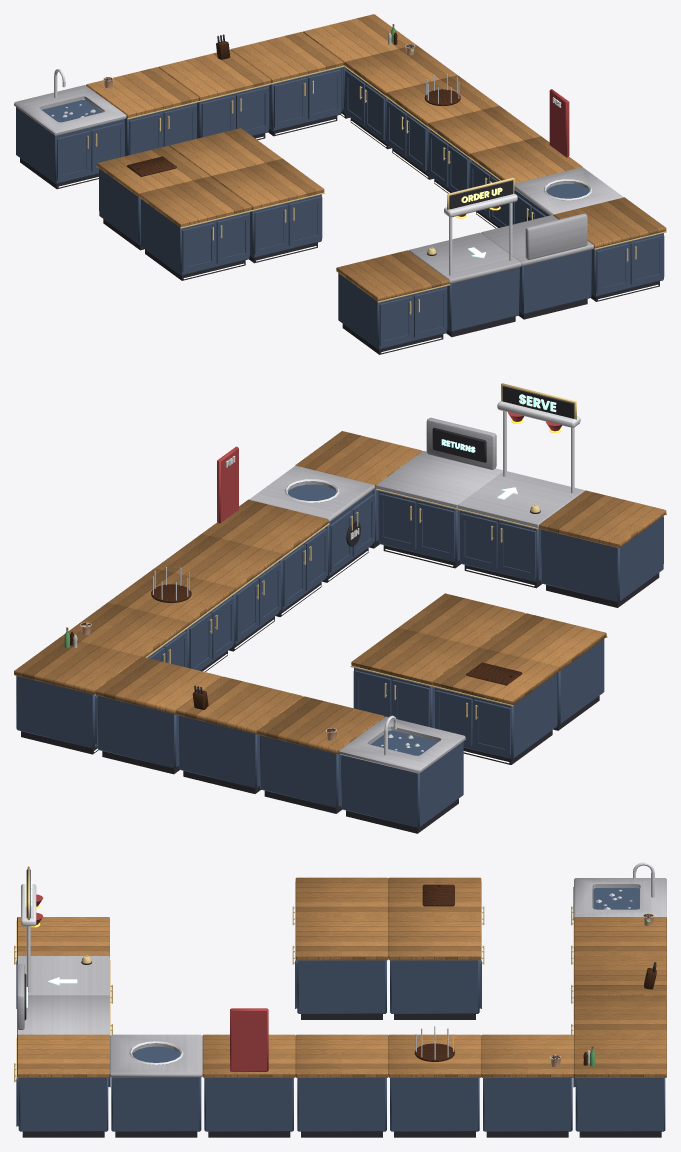
The model's file is kr_layD3_st2.glb.
3 views of the same model, one above another, from view 1: azimuth 30°, elevation 25°; view 2: azimuth 150°, elevation 25°; view 3: azimuth 270°, elevation 25° (orthographic). The views are drawn at different scales.
Visible parts, largest first — view 1: vc_m0_r4, kr_layD3_st2_butcher, kr_layD3_st2_steel, vc_m8_r2, kr_layD3_st2_darkwood, kr_layD3_st2_warmglow; view 2: vc_m0_r4, kr_layD3_st2_butcher, kr_layD3_st2_steel, vc_m8_r2, kr_layD3_st2_darkwood, kr_layD3_st2_warmglow; view 3: vc_m0_r4, kr_layD3_st2_butcher, kr_layD3_st2_steel, vc_m8_r2, kr_layD3_st2_darkwood.
Part boxes in pixels (x1,y1,x2,y2): vc_m0_r4: [16, 26, 664, 354]; kr_layD3_st2_butcher: [86, 14, 666, 301]; kr_layD3_st2_steel: [14, 85, 623, 283]; vc_m8_r2: [54, 65, 666, 314]; kr_layD3_st2_darkwood: [127, 32, 460, 176]; kr_layD3_st2_warmglow: [58, 113, 658, 353]; vc_m0_r4: [16, 386, 663, 833]; kr_layD3_st2_butcher: [14, 431, 666, 754]; kr_layD3_st2_steel: [249, 417, 584, 773]; vc_m8_r2: [94, 383, 666, 755]; kr_layD3_st2_darkwood: [70, 584, 522, 709]; kr_layD3_st2_warmglow: [94, 549, 534, 763]; vc_m0_r4: [16, 869, 665, 1137]; kr_layD3_st2_butcher: [17, 877, 666, 1077]; kr_layD3_st2_steel: [17, 878, 666, 1077]; vc_m8_r2: [14, 862, 654, 1082]; kr_layD3_st2_darkwood: [414, 884, 656, 1065].
Size of the model in its own units: 6 by 2.25 by 8.44.
14 materials, 4 textured.
